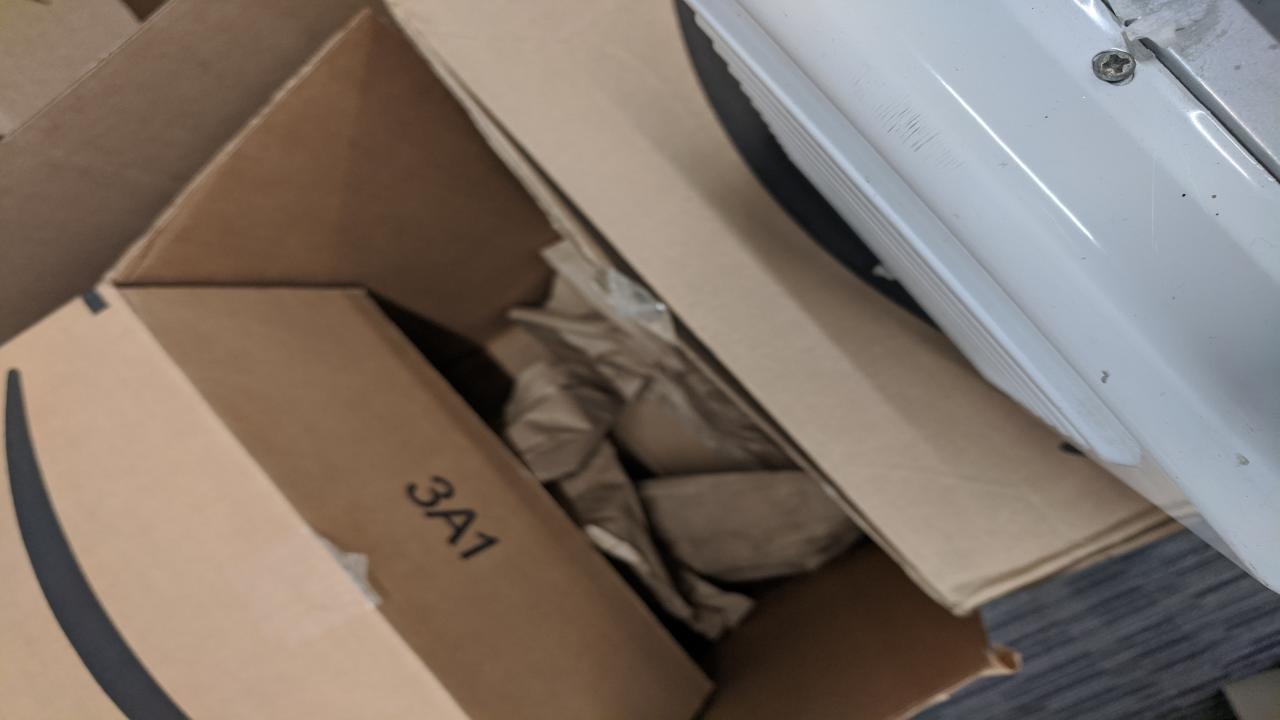CRS: (1088, 46, 1148, 90)
